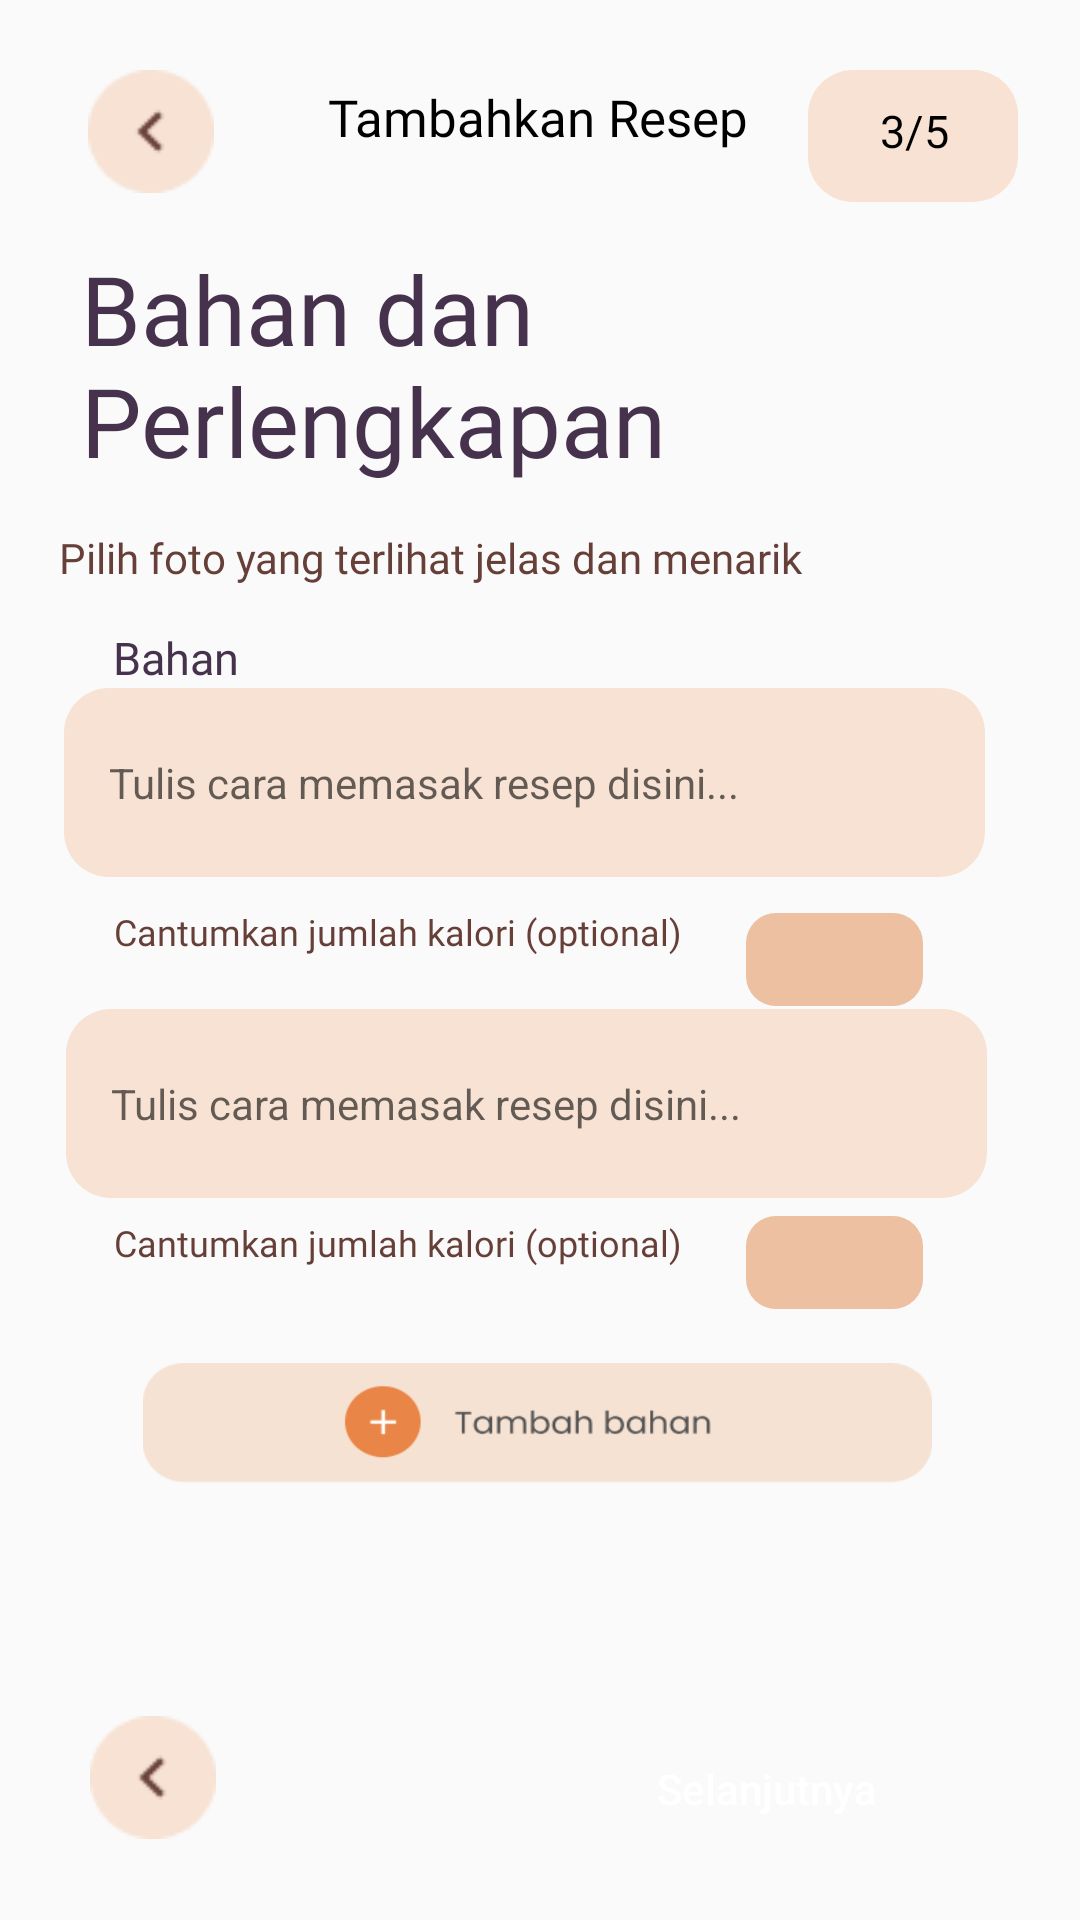

Named icons in this screenshot (1080 x 1920) and their bounding boxes, box(x1, y1, x2, y2):
back: box(88, 70, 214, 193), box(90, 1716, 216, 1839)
